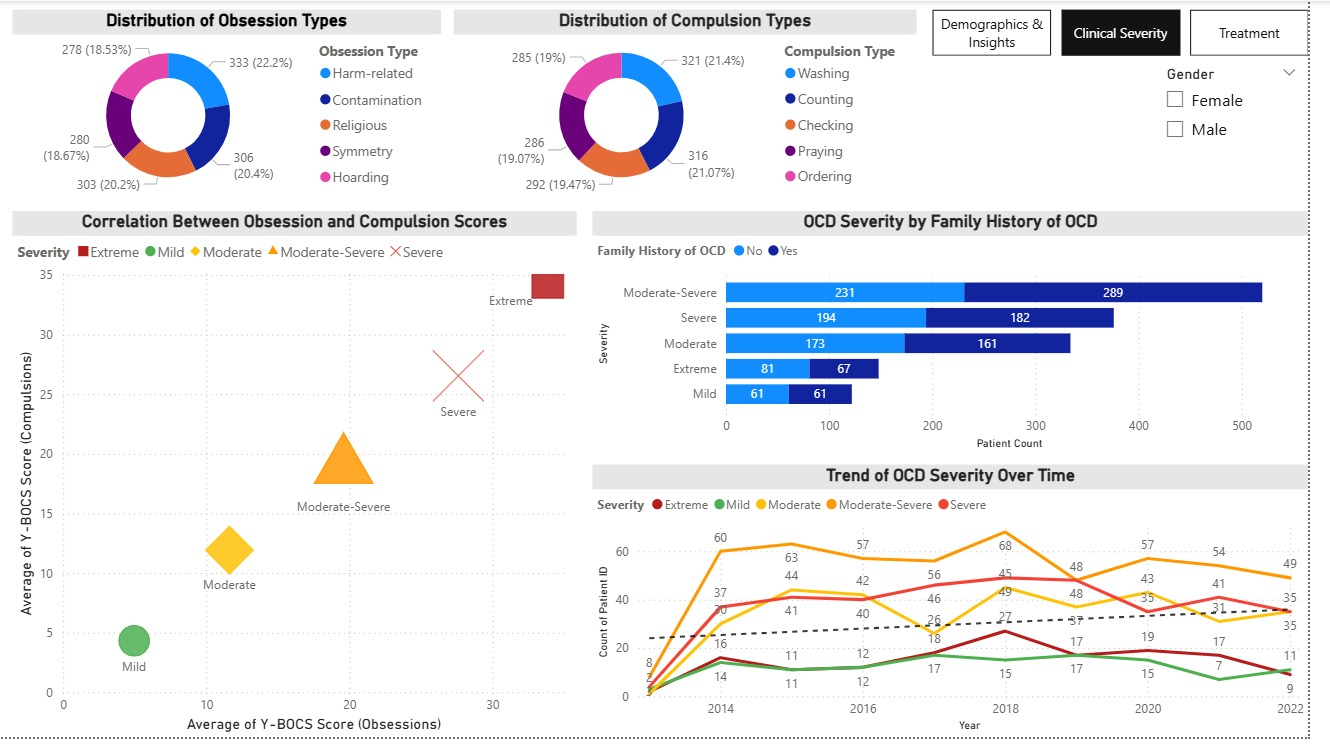

What the dashboard file says about the page in this screenshot:
{"tool":"powerbi","page":{"name":"Clinical Severity","canvas":[1280,720],"ordinal":1},"visuals":[{"type":"scatterChart","title":"Correlation Between Obsession and Compulsion Scores","fields":{"X":["Avg(OCD Patient Dataset.Y-BOCS Score (Obsessions))"],"Y":["Avg(OCD Patient Dataset.Y-BOCS Score (Compulsions))"],"Size":["OCD Patient Dataset.Patient Count"],"Category":["OCD Patient Dataset.Severity"],"Series":["OCD Patient Dataset.Severity"]},"box":[12.4,205.1,551.9,514.6],"z":0},{"type":"barChart","title":"OCD Severity by Family History of OCD","fields":{"Category":["OCD Patient Dataset.Severity"],"Y":["OCD Patient Dataset.Patient Count"],"Series":["OCD Patient Dataset.Family History of OCD"]},"box":[579.6,205.4,700.7,238.5],"z":1000},{"type":"donutChart","title":"Distribution of Obsession Types","fields":{"Category":["OCD Patient Dataset.Obsession Type"],"Y":["OCD Patient Dataset.Patient Count"]},"box":[12.4,8.7,418.9,187.7],"z":2000},{"type":"donutChart","title":"Distribution of Compulsion Types","fields":{"Category":["OCD Patient Dataset.Compulsion Type"],"Y":["OCD Patient Dataset.Patient Count"]},"box":[443.9,8.6,452.4,187.1],"z":3000},{"type":"lineChart","title":"Trend of OCD Severity Over Time","fields":{"Category":["OCD Patient Dataset.OCD Diagnosis Date.Variation.Date Hierarchy.Year"],"Y":["CountNonNull(OCD Patient Dataset.Patient ID)"],"Series":["OCD Patient Dataset.Severity"]},"box":[579.6,453.7,700.7,266.6],"z":4000},{"type":"pageNavigator","box":[912.2,8.6,368.1,45.2],"z":5000},{"type":"slicer","fields":{"Values":["OCD Patient Dataset.Gender"]},"box":[1128.7,57.5,151.6,117.4],"z":6001}]}

Visuals, with their boxes in screenshot pixels (x1, y1, x2, y2), scaled from the page's 1280x720 canvas onto the 1330x747 screenshot:
"Correlation Between Obsession and Compulsion Scores" scatterChart: x1=13, y1=213, x2=586, y2=746
"OCD Severity by Family History of OCD" barChart: x1=602, y1=213, x2=1329, y2=461
"Distribution of Obsession Types" donutChart: x1=13, y1=9, x2=448, y2=204
"Distribution of Compulsion Types" donutChart: x1=461, y1=9, x2=931, y2=203
"Trend of OCD Severity Over Time" lineChart: x1=602, y1=471, x2=1329, y2=746
pageNavigator: x1=948, y1=9, x2=1329, y2=56
slicer - OCD Patient Dataset.Gender: x1=1173, y1=60, x2=1329, y2=181
